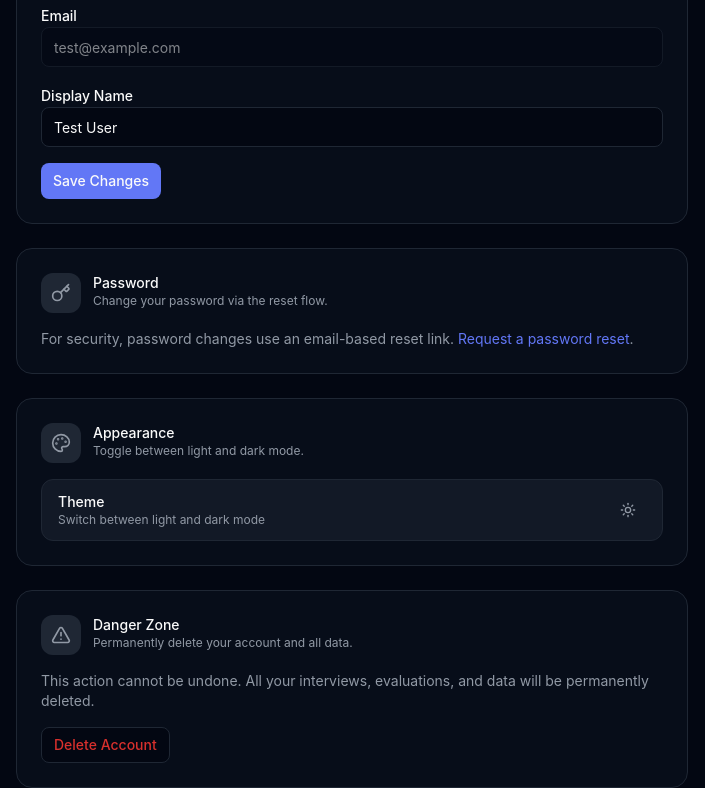
Test: SettingsPage › requires confirmation before deleting
(page scrolled)
Click the button "Delete Account": x=105, y=745 [41,727,170,763]
(page scrolled)
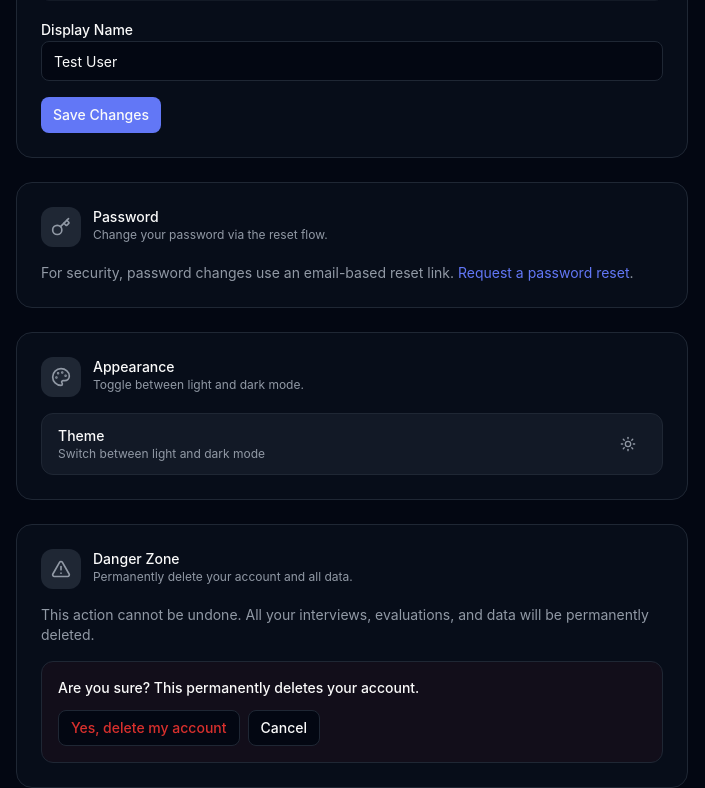
expect the button "Yes, delete my account" is shown: met, box [58,710,240,746]
